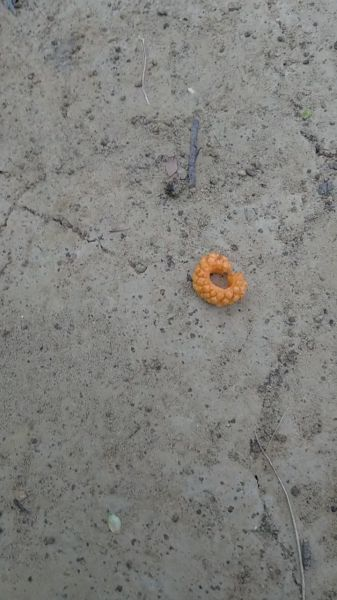eggs: (187, 246, 246, 308)
